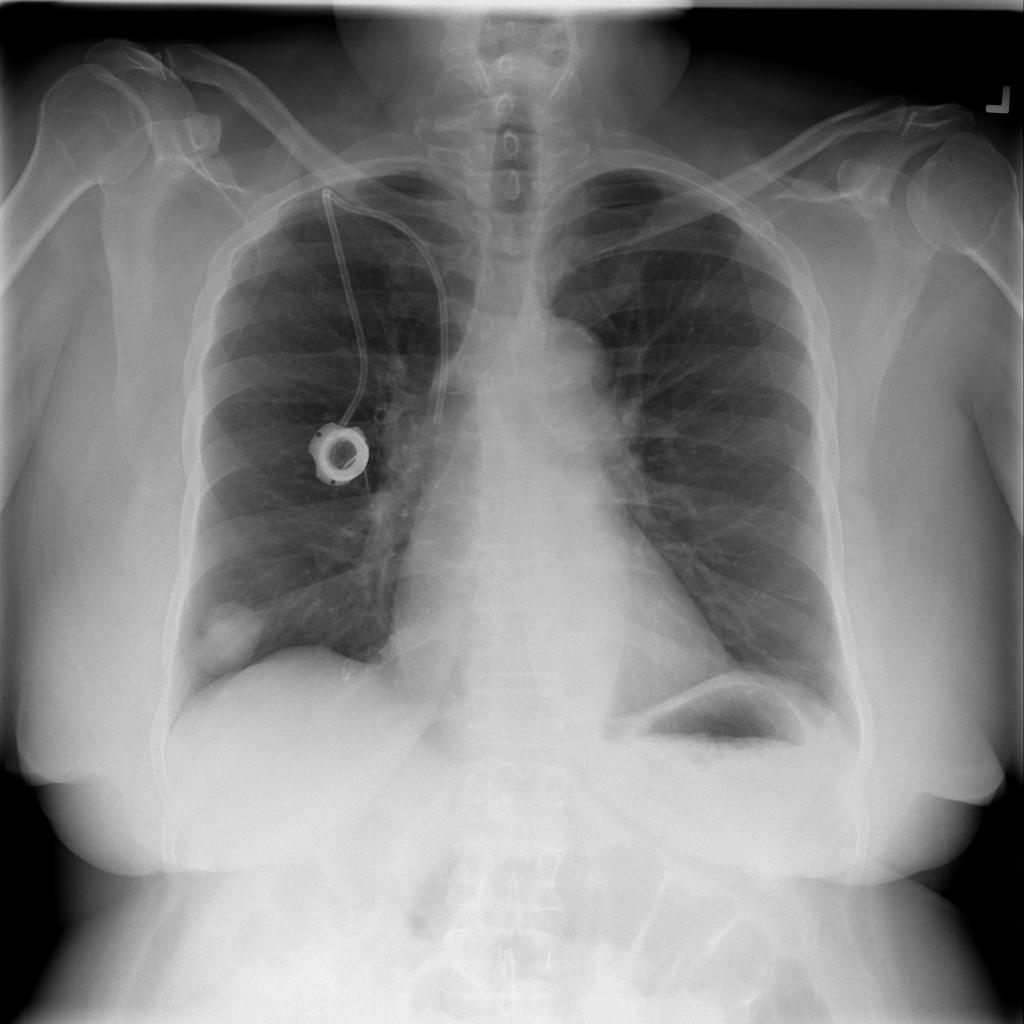nodule: (178, 583, 286, 689)
